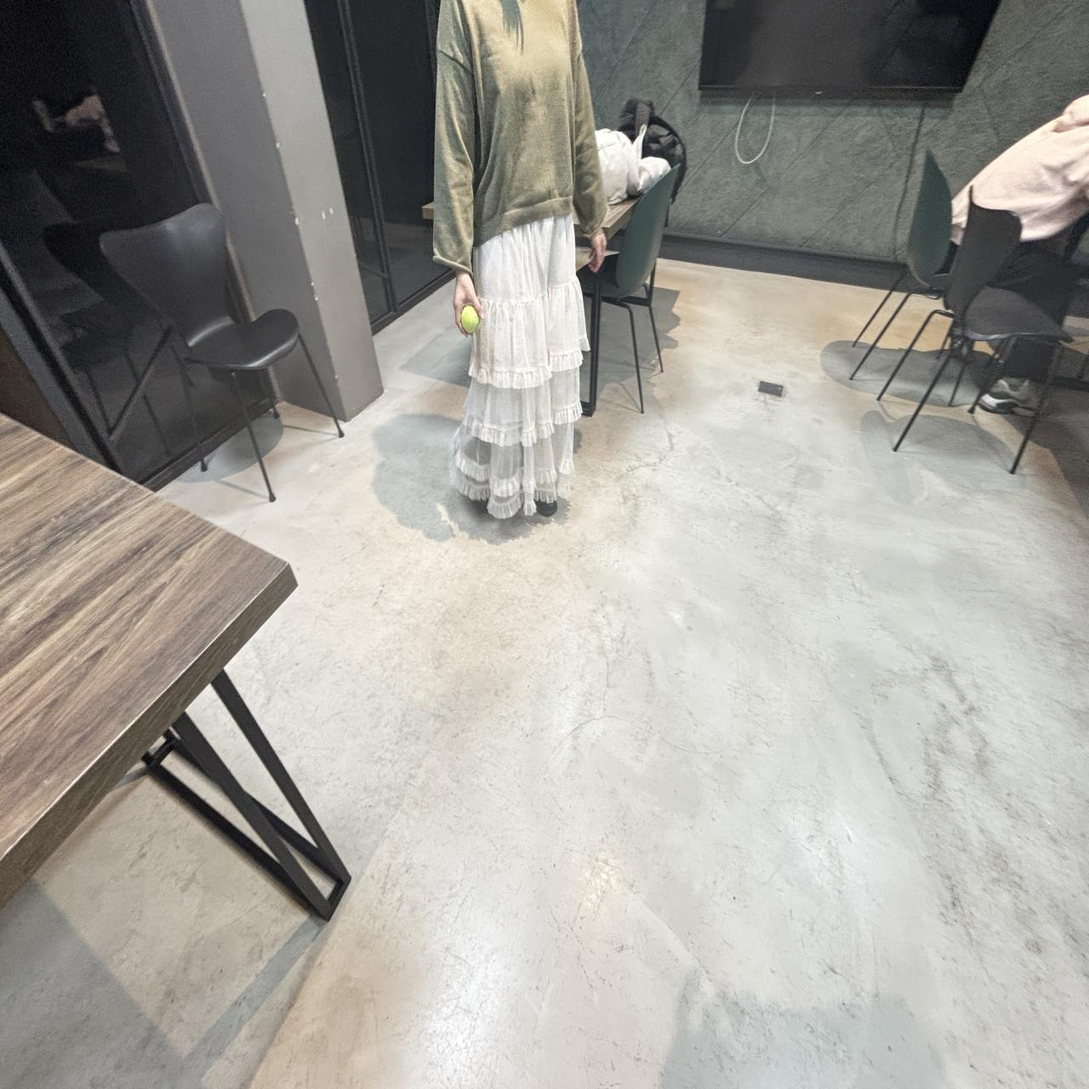person: (435, 0, 607, 518), (929, 98, 1089, 420)
tennisball: (461, 305, 480, 334)
